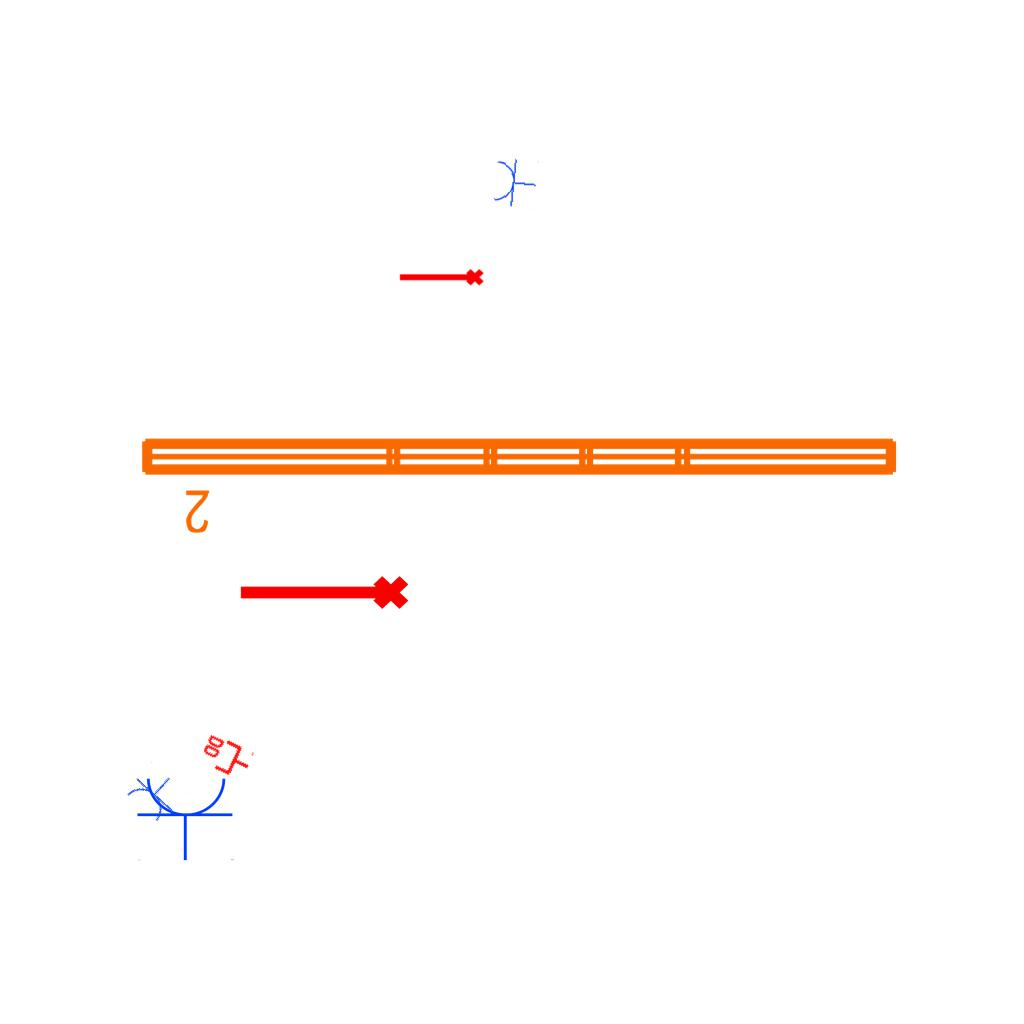ASR_Ansaugoeffnung: (235, 572, 411, 618), (397, 267, 485, 290)
Ambulanz_Pendelleuchte_LED: (133, 426, 907, 538)
Datenanschluss_zweifach: (195, 731, 257, 784)
Schukosteckdose_einfach: (136, 774, 236, 861), (122, 760, 188, 827), (491, 155, 539, 210)
